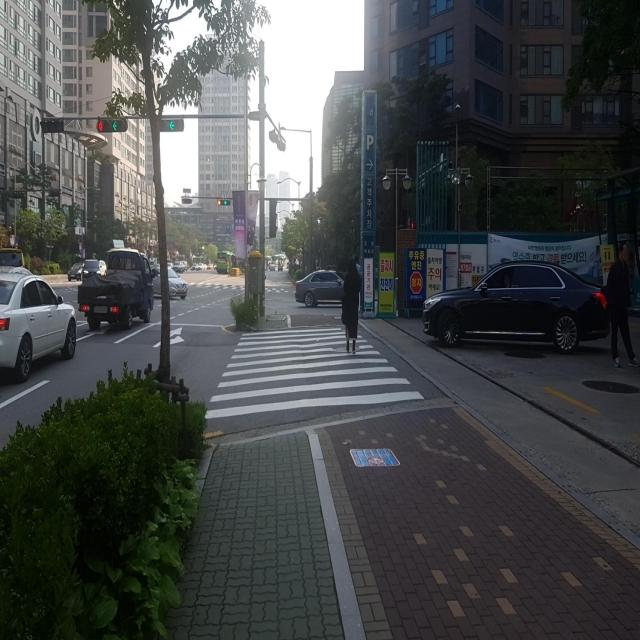횡단보도: (202, 324, 426, 422)
